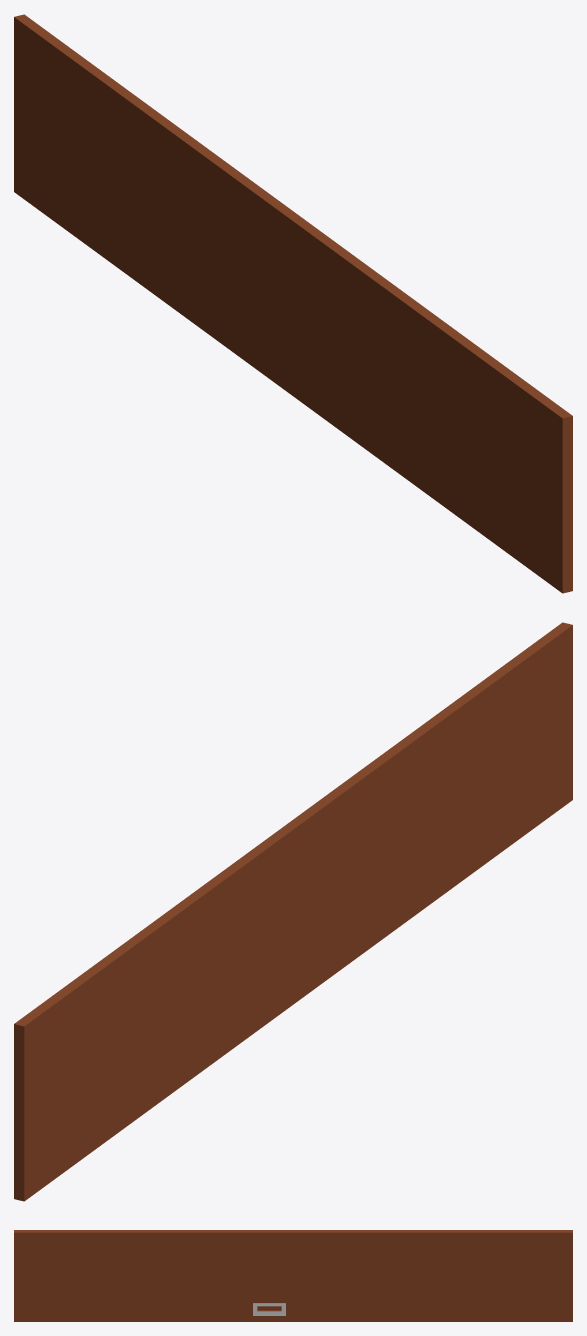
File: ROOM602-SQUARE-600-CLOSET-BODYSET7_link_mesh.dae
3 renders of one model, top to bottom at view 1: azimuth 30°, elevation 25°; view 2: azimuth 150°, elevation 25°; view 3: azimuth 270°, elevation 25°, orthographic. The views are drawn at different scales.
Parts seen in each view (by area): view 1: ROOM602-SQUARE-600-CLOSET-BODYSET7_link; view 2: ROOM602-SQUARE-600-CLOSET-BODYSET7_link; view 3: ROOM602-SQUARE-600-CLOSET-BODYSET7_link (×2).
Boxes of the visible parts, x1,y1,x2,y2 form: ROOM602-SQUARE-600-CLOSET-BODYSET7_link: [14, 14, 572, 593]; ROOM602-SQUARE-600-CLOSET-BODYSET7_link: [14, 622, 572, 1201]; ROOM602-SQUARE-600-CLOSET-BODYSET7_link (×2): [14, 1230, 572, 1321].
Bounding box in the file's own units: 0.0205 × 0.291 × 1.65.
